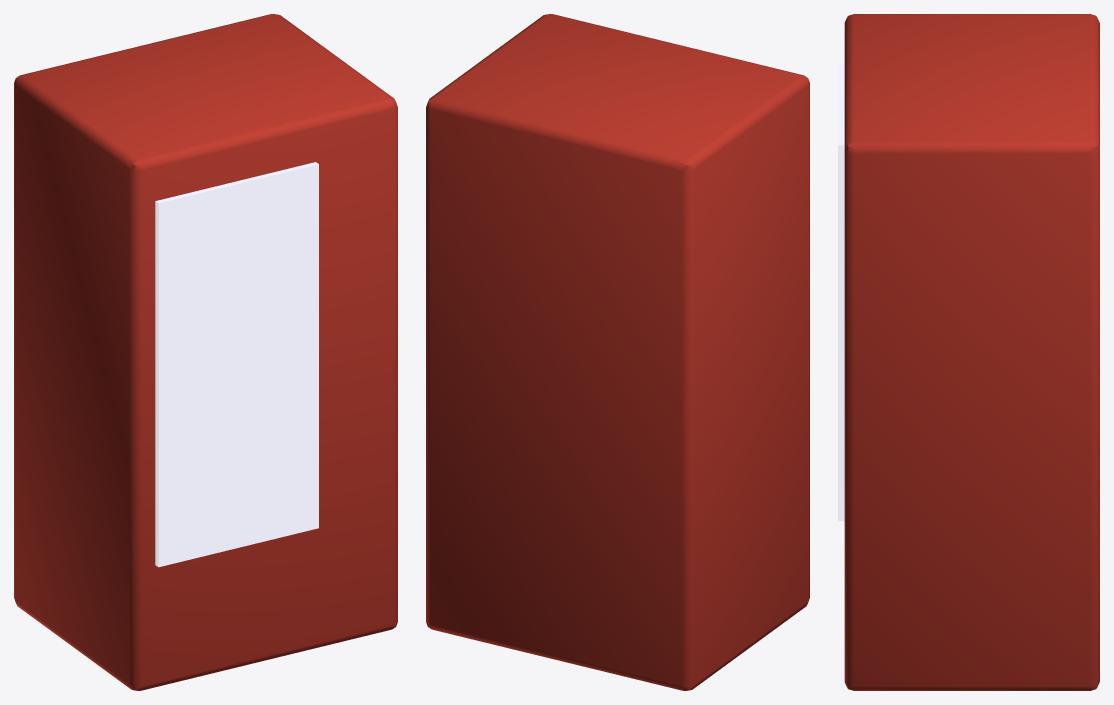
File: vending.glb
The picture shows the model from 3 angles, left to right: view 1: azimuth 30°, elevation 25°; view 2: azimuth 150°, elevation 25°; view 3: azimuth 270°, elevation 25°; orthographic projection. The views are drawn at different scales.
Parts seen in each view (by area): view 1: vend; view 2: vend; view 3: vend.
Boxes of the visible parts, <box> form: vend: <box>14,14,397,690</box>; vend: <box>426,14,809,690</box>; vend: <box>838,14,1099,690</box>.
Bounding box in the file's own units: 1 × 1.9 × 0.82.
